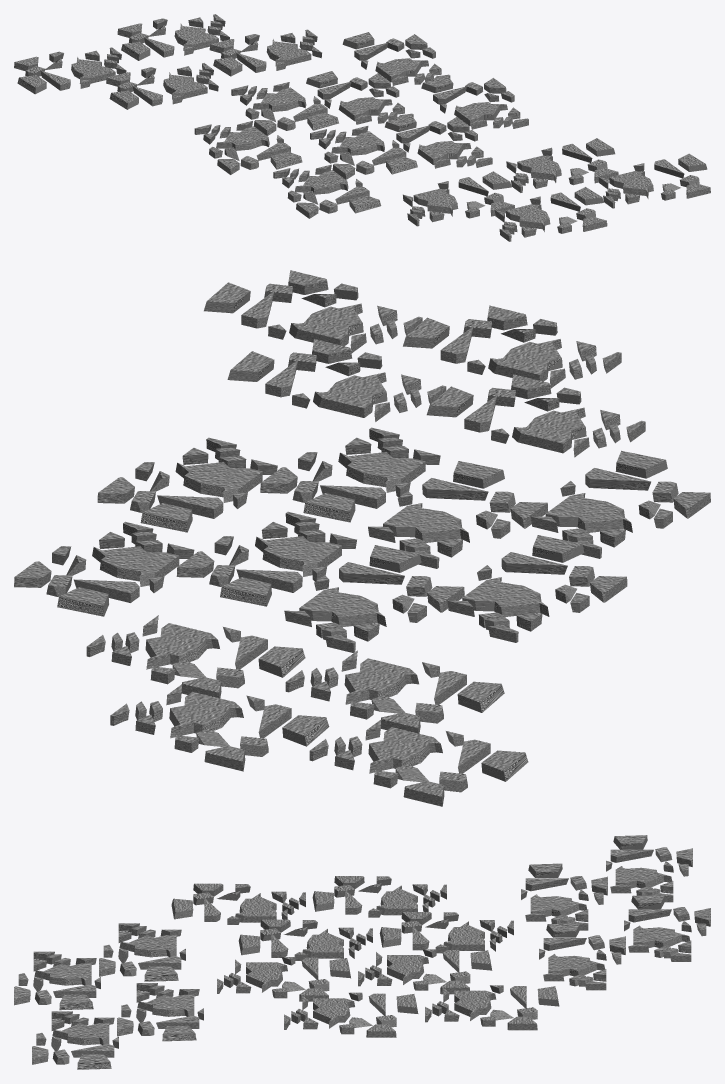
The model's file is MusorKamni.fbx.
3 views of the same model, one above another, from view 1: azimuth 30°, elevation 25°; view 2: azimuth 150°, elevation 25°; view 3: azimuth 270°, elevation 25° (orthographic). The views are drawn at different scales.
Parts seen in each view (by area): view 1: Musor2, Musor1, Musor4, Musor3; view 2: Musor2, Musor1, Musor3, Musor4; view 3: Musor4, Musor3, Musor1, Musor2.
Boxes of the visible parts, x1,y1,x2,y2 form: Musor2: [194, 82, 417, 218]; Musor1: [306, 32, 528, 168]; Musor4: [403, 138, 710, 241]; Musor3: [14, 14, 321, 109]; Musor2: [284, 450, 710, 652]; Musor1: [14, 427, 440, 616]; Musor3: [86, 615, 528, 806]; Musor4: [204, 270, 645, 457]; Musor4: [14, 923, 203, 1069]; Musor3: [521, 835, 710, 990]; Musor1: [217, 949, 559, 1037]; Musor2: [171, 876, 513, 960].
Size of the model in its own units: 1871 by 46.27 by 2406.
